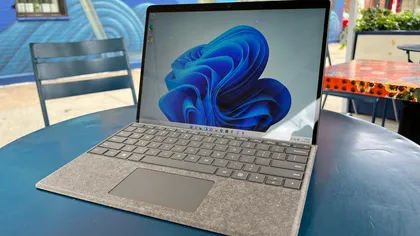laptop: (91, 3, 349, 236)
